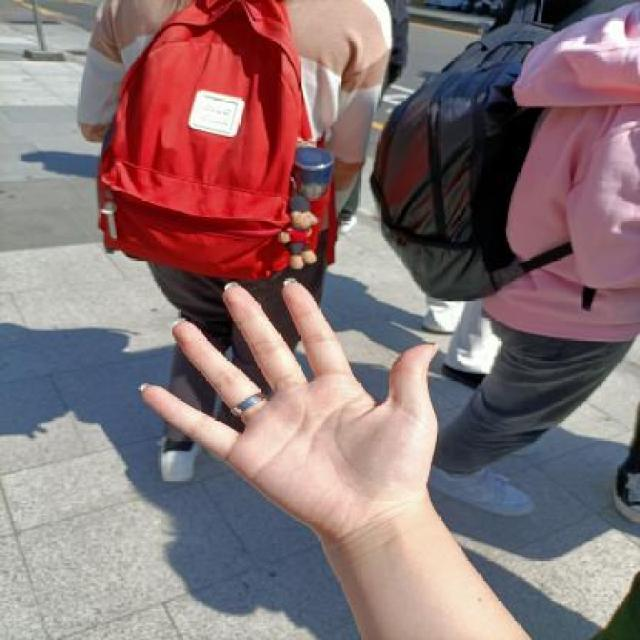bare_hand: (122, 264, 460, 550)
